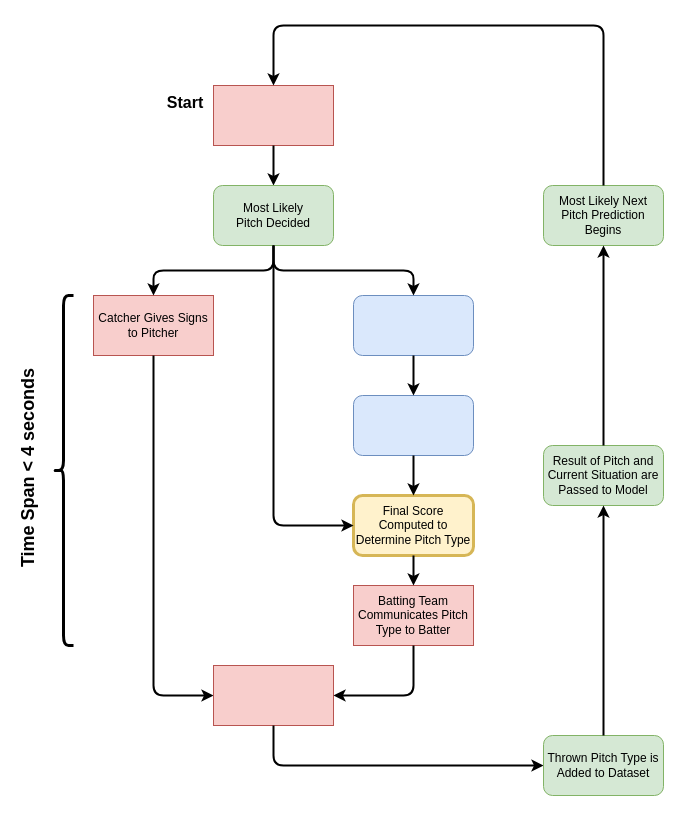
Image size: 681x813. Some labels were removed from this diagram. Each missing label, with the centre of its shape:
Catcher Signs Encoded to Sequence (Computer Vision): [413,325]
Pitch is Thrown with Batter's Knowledge of the Incoming Pitch: [273,695]
Pitcher Receives Ball: [273,115]
Sequence Decoded to Reveal Pitch Type: [413,425]
